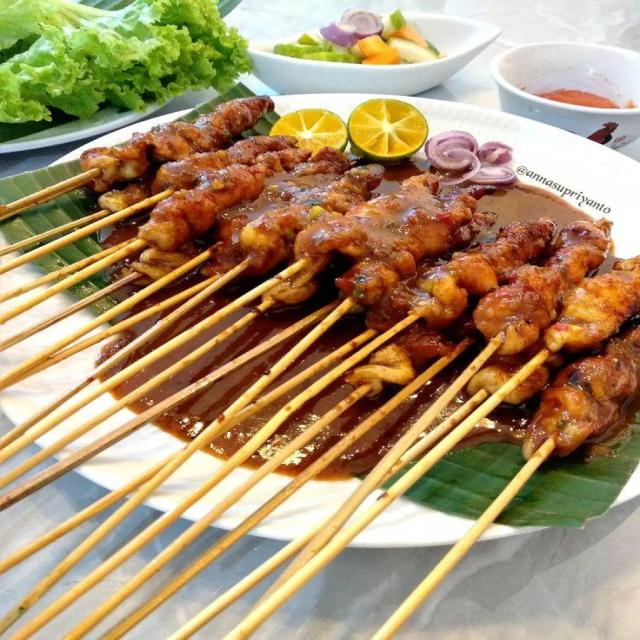Sate: (41, 152, 610, 616)
